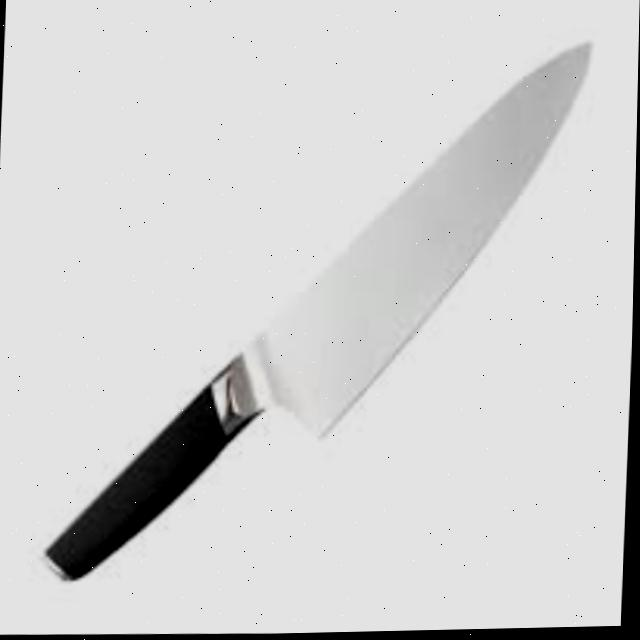Knife: (45, 31, 596, 590)
